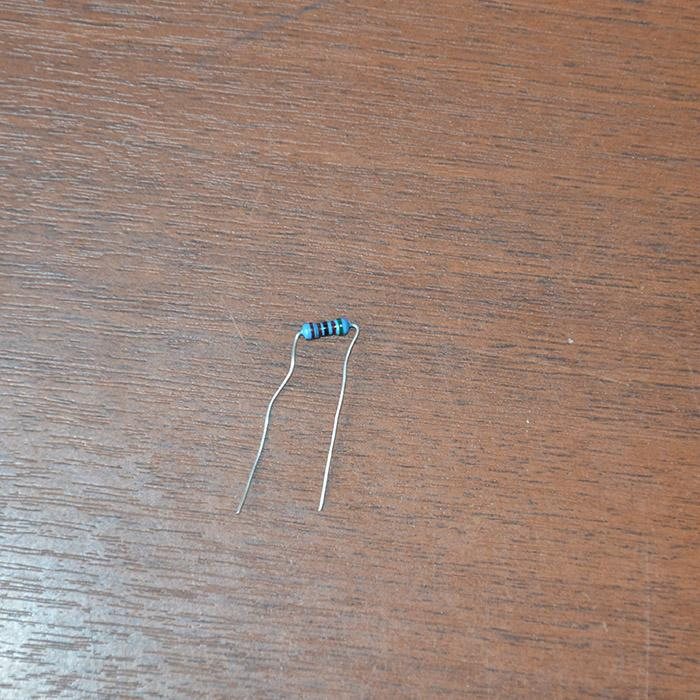resistor: (301, 317, 351, 340)
